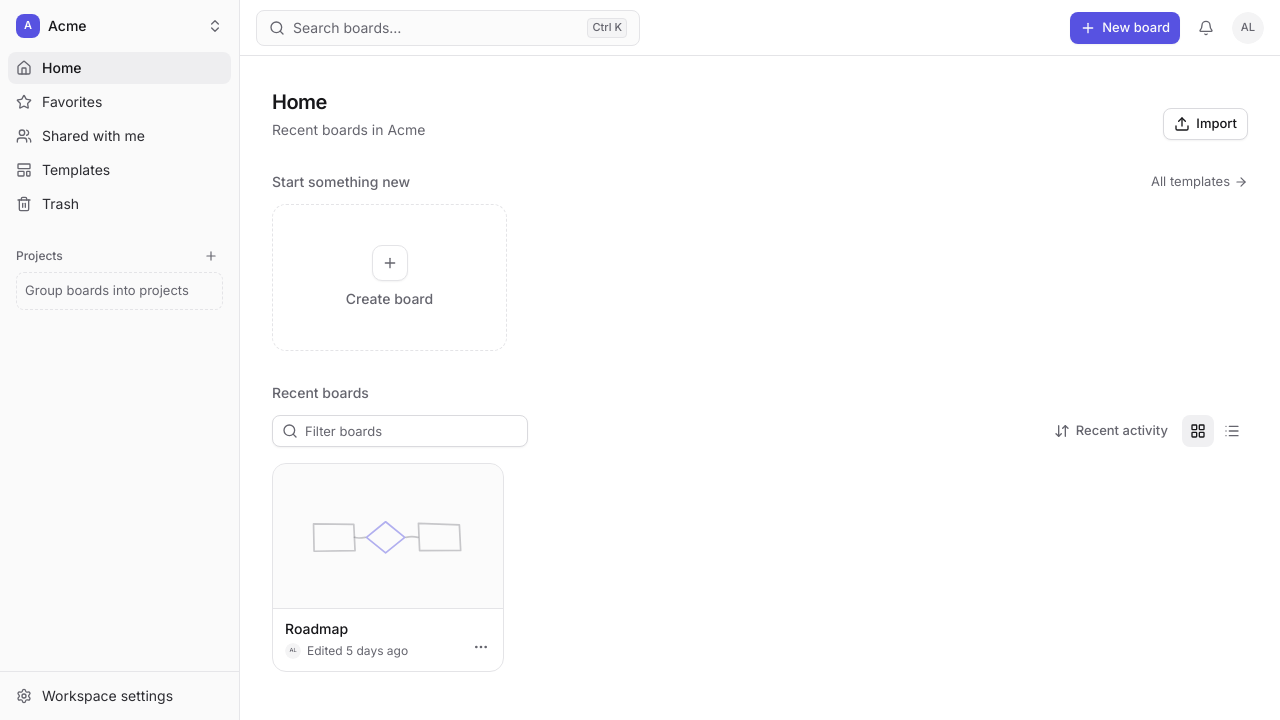
Test: dashboard board list › renames a board from its menu (PATCH /boards/:id)
Click the button with test id "board-card-menu" at (481, 647), box [465,631,497,663]
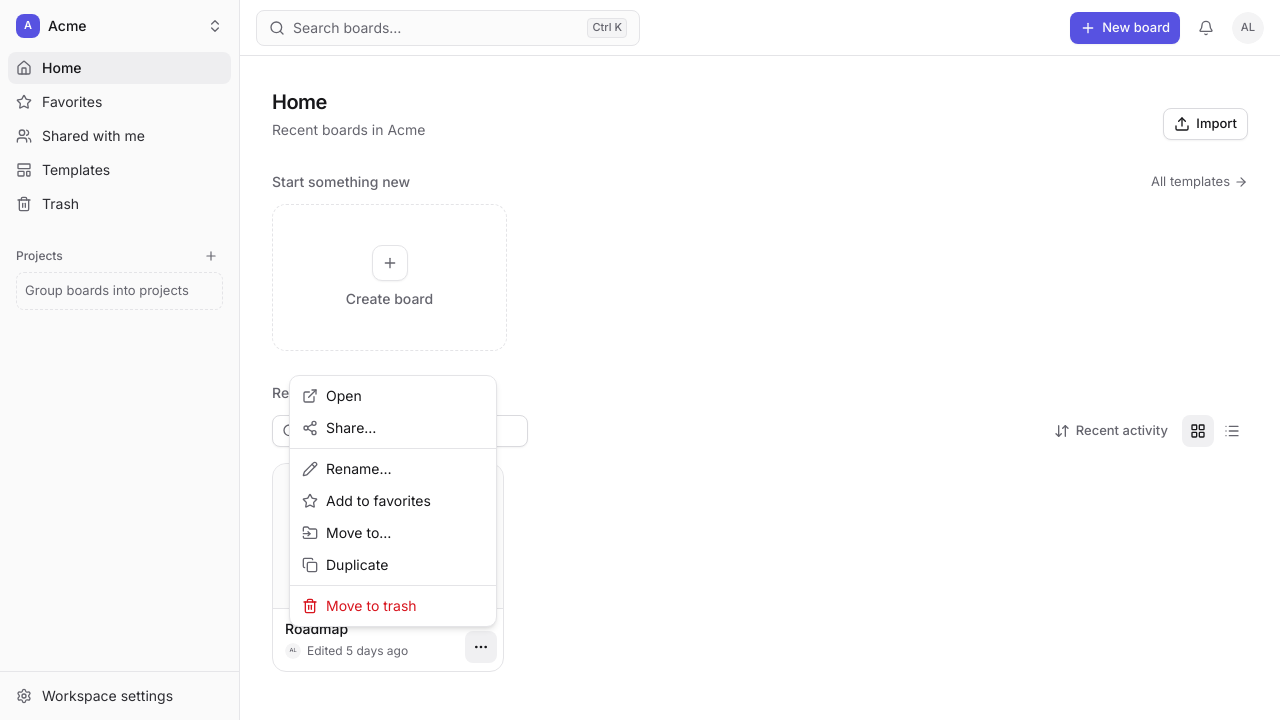
Click the menu item with test id "board-menu-rename" at (347, 468), box [302,460,392,477]
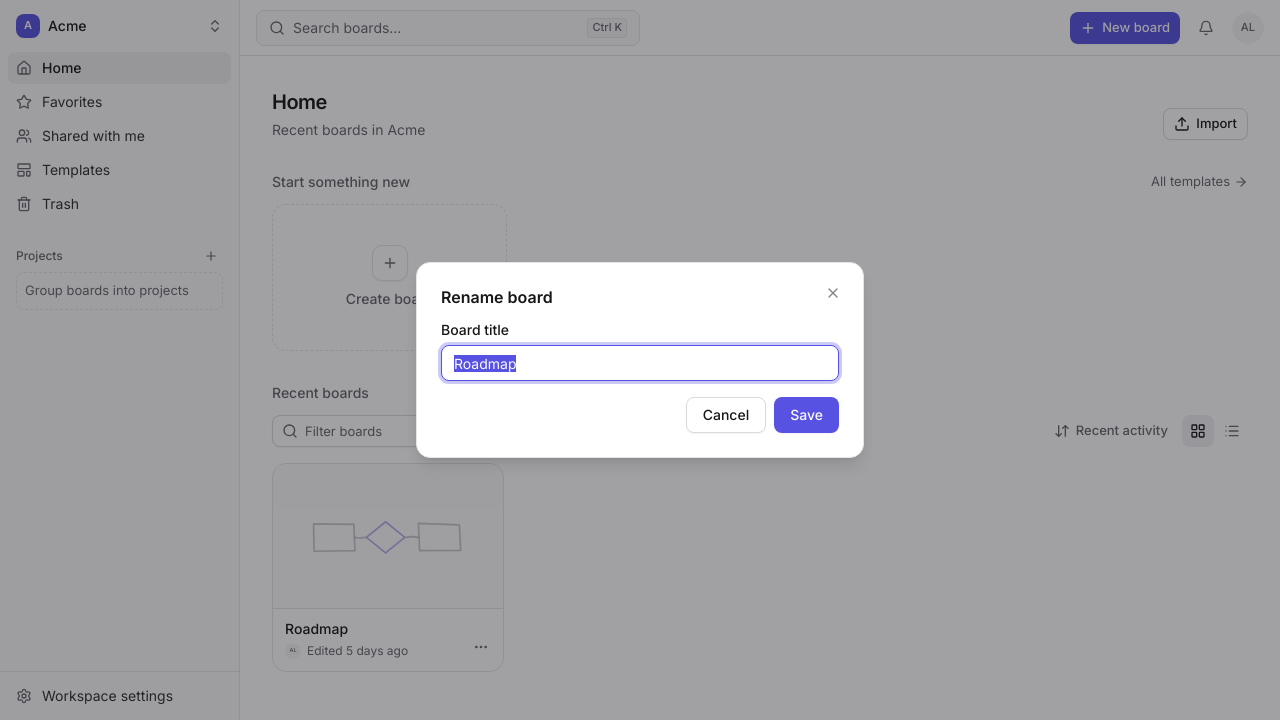
Replace the text in the field with test id "rename-input" with "Product roadmap" at (640, 363), box [441,345,839,381]
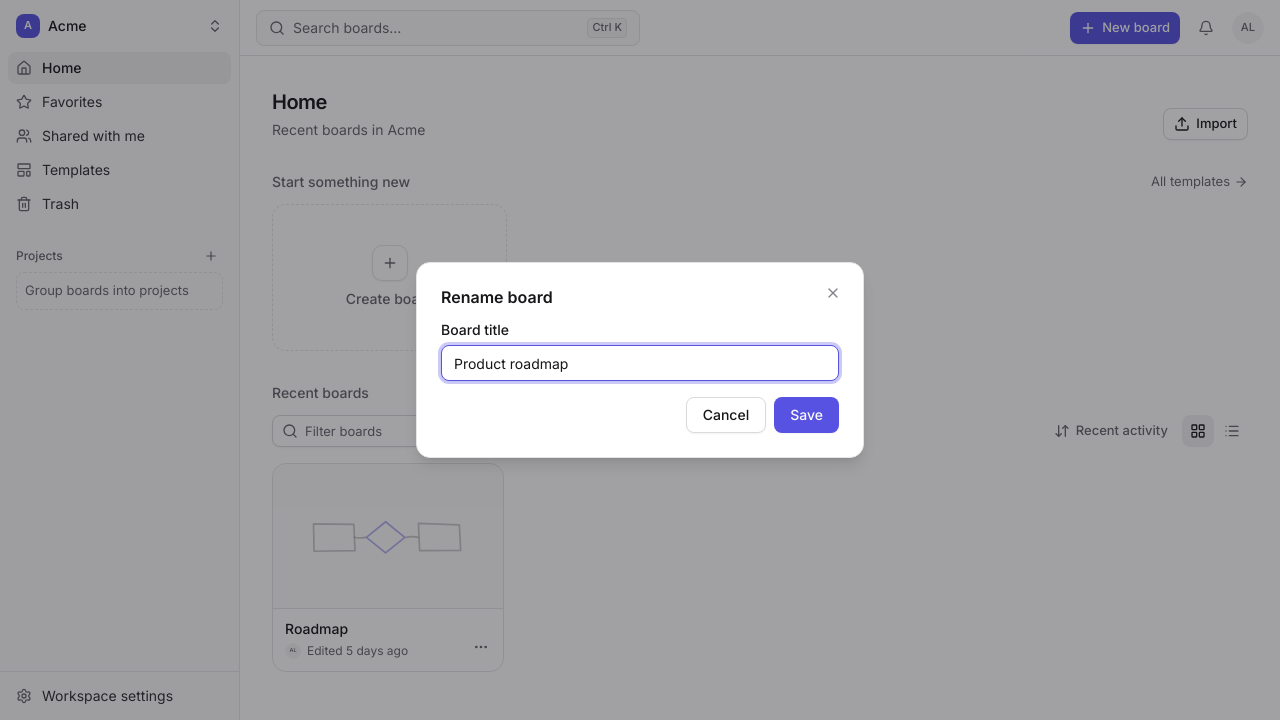
Click the button with test id "rename-submit" at (807, 415), box [774,397,839,433]
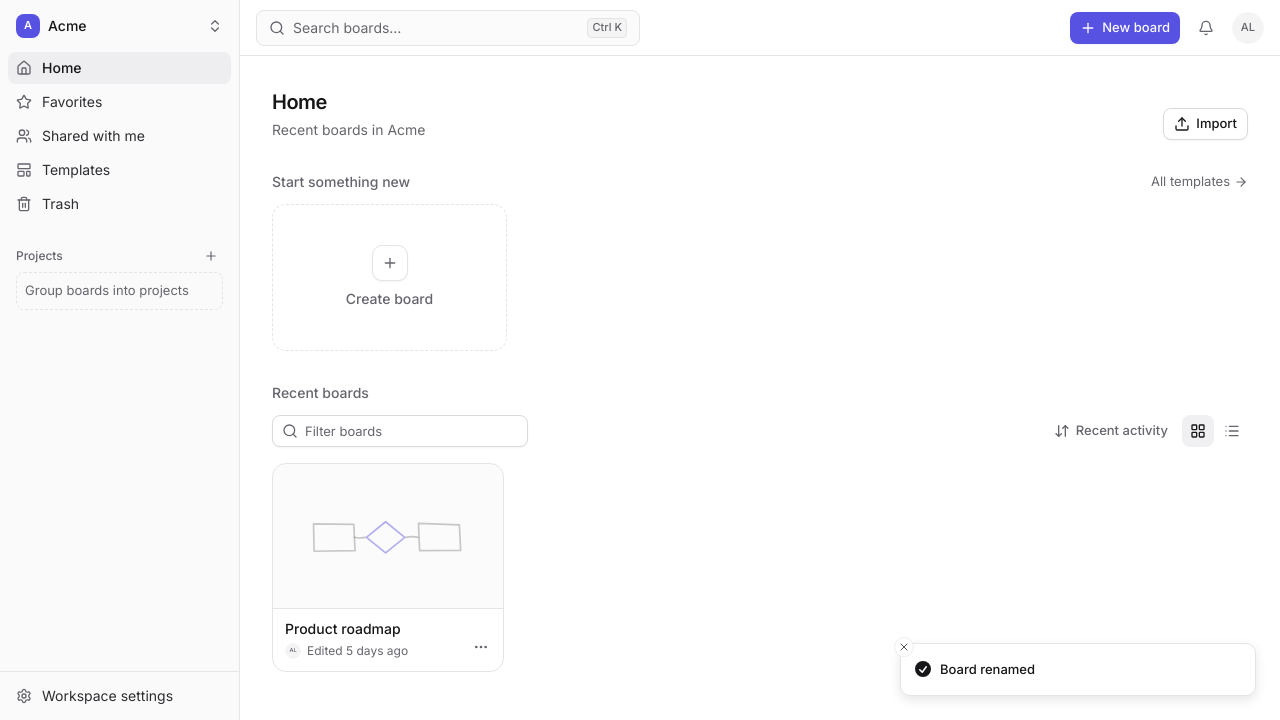
Result: the heading "Product roadmap" is shown at [285,620,401,637]
Result: the field with test id "rename-input" is gone
